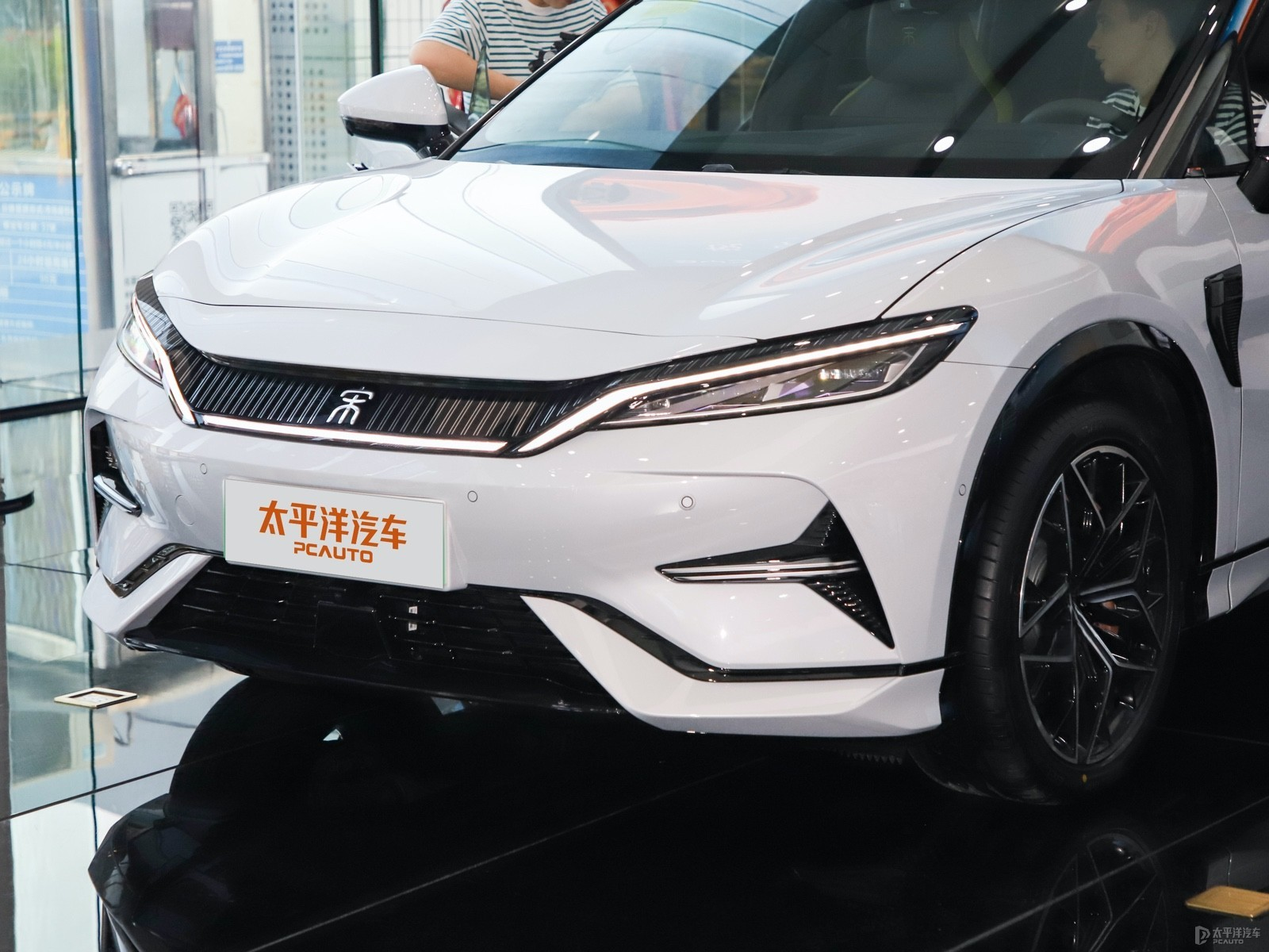BYD Song: (327, 387, 373, 424)
